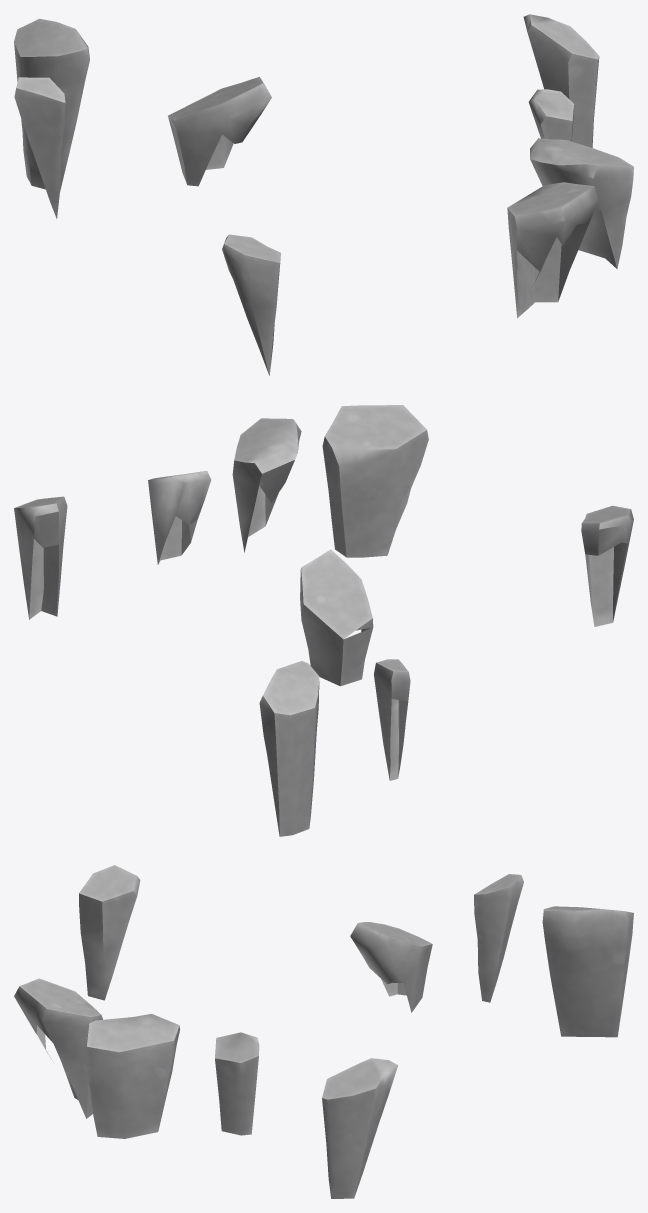
File: sculpted_rubble_02.glb
The picture shows the model from 3 angles, top to bottom: view 1: azimuth 30°, elevation 25°; view 2: azimuth 150°, elevation 25°; view 3: azimuth 270°, elevation 25°; orthographic projection. The views are drawn at different scales.
Visible parts, largest first — view 1: sculpted_rubble_02; view 2: sculpted_rubble_02; view 3: sculpted_rubble_02.
Part boxes in pixels (box(x1,y1,x2,y2)): sculpted_rubble_02: box(14, 14, 633, 375); sculpted_rubble_02: box(14, 405, 633, 836); sculpted_rubble_02: box(14, 865, 633, 1198).
Bounding box in the file's own units: 2.16 × 0.7101 × 2.59.
1 material, 1 textured.
